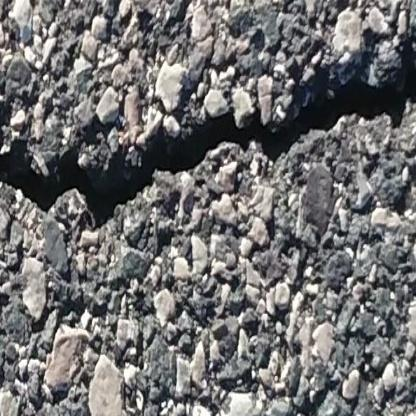Cracks: (0, 22, 416, 215)
